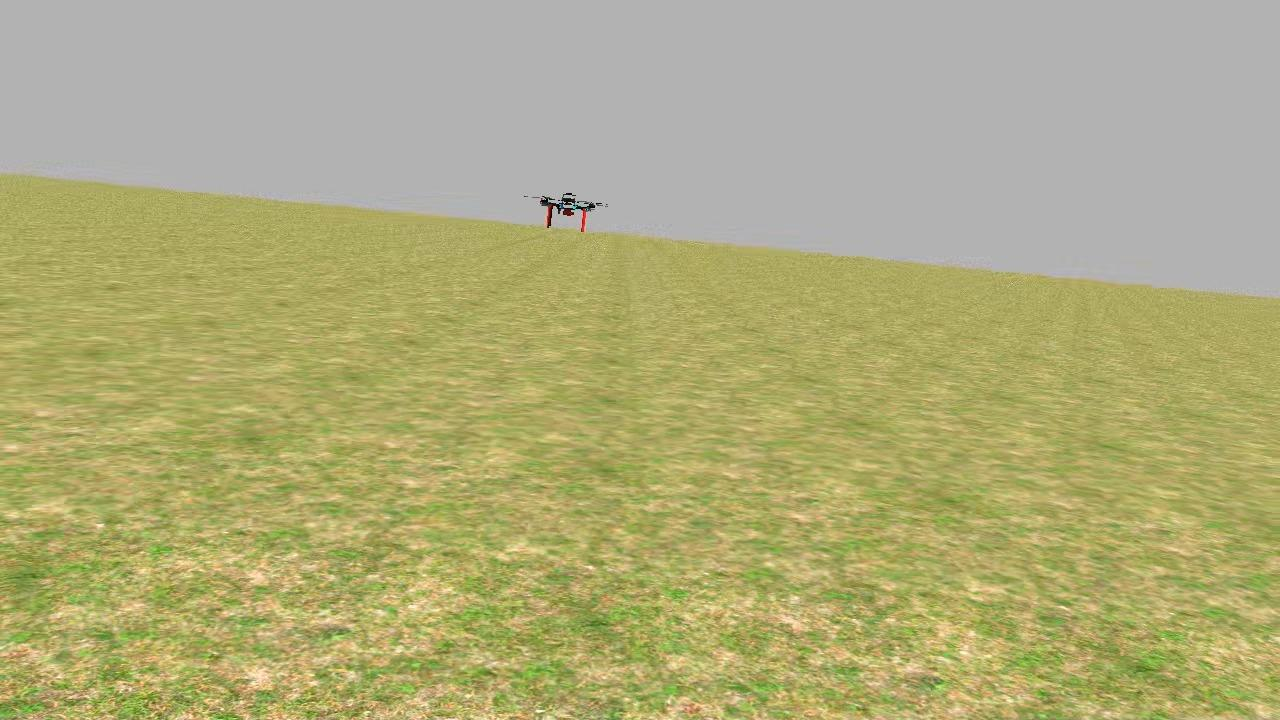UAV: (526, 180, 610, 240)
